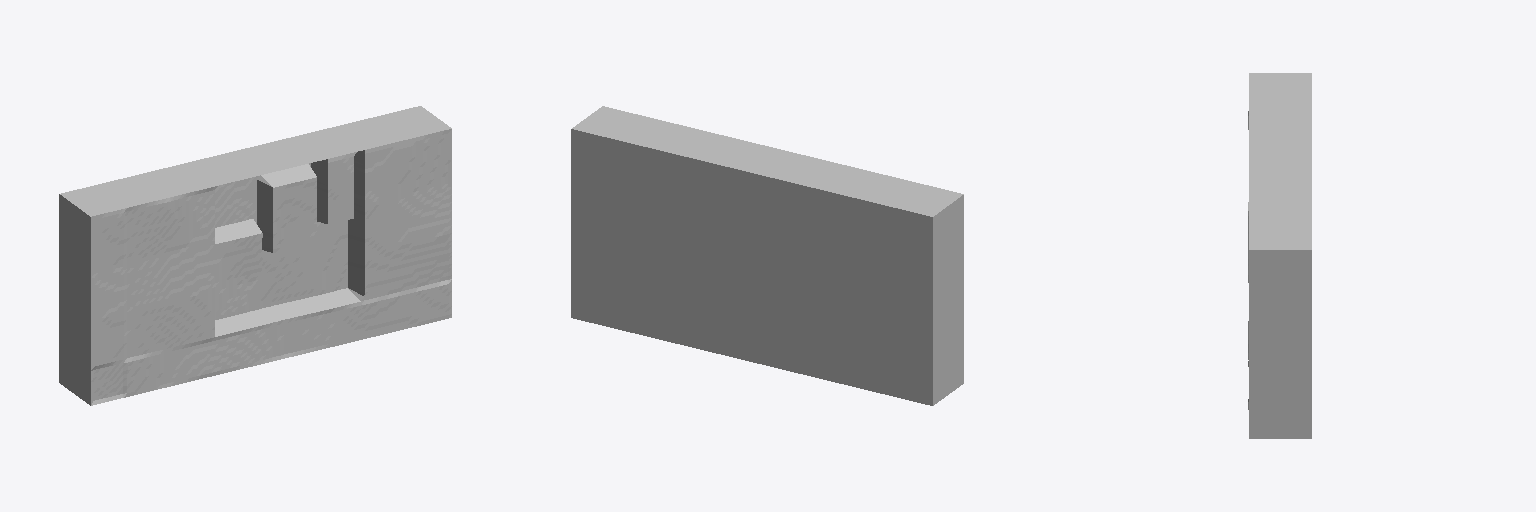
File: rectangular_prism_bumps_1_8.obj
The picture shows the model from 3 angles: view 1: azimuth 30°, elevation 25°; view 2: azimuth 150°, elevation 25°; view 3: azimuth 270°, elevation 25°; orthographic projection.
Size of the model in its own units: 10 by 5 by 1.52.